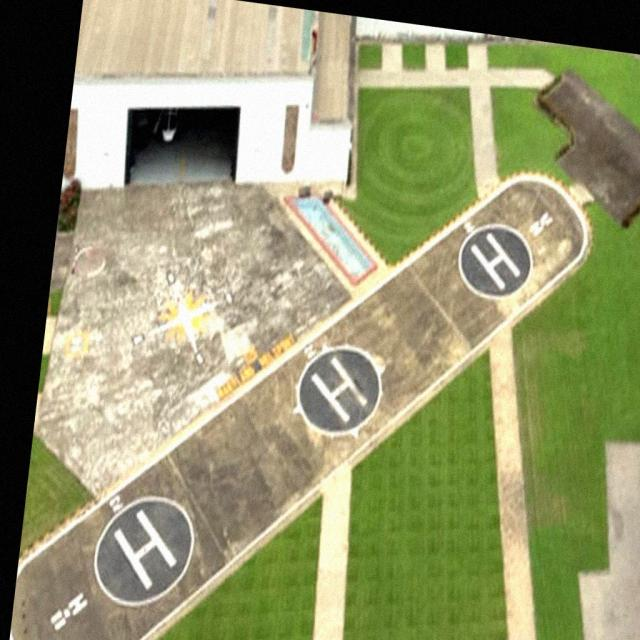helipad: (91, 492, 195, 606), (294, 341, 382, 435), (454, 222, 534, 301)
